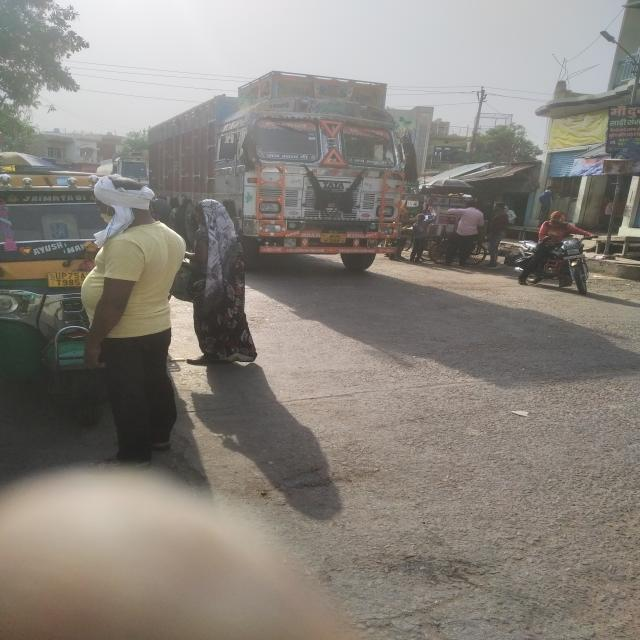Bike: (514, 236, 590, 294)
truck: (252, 82, 405, 250)
